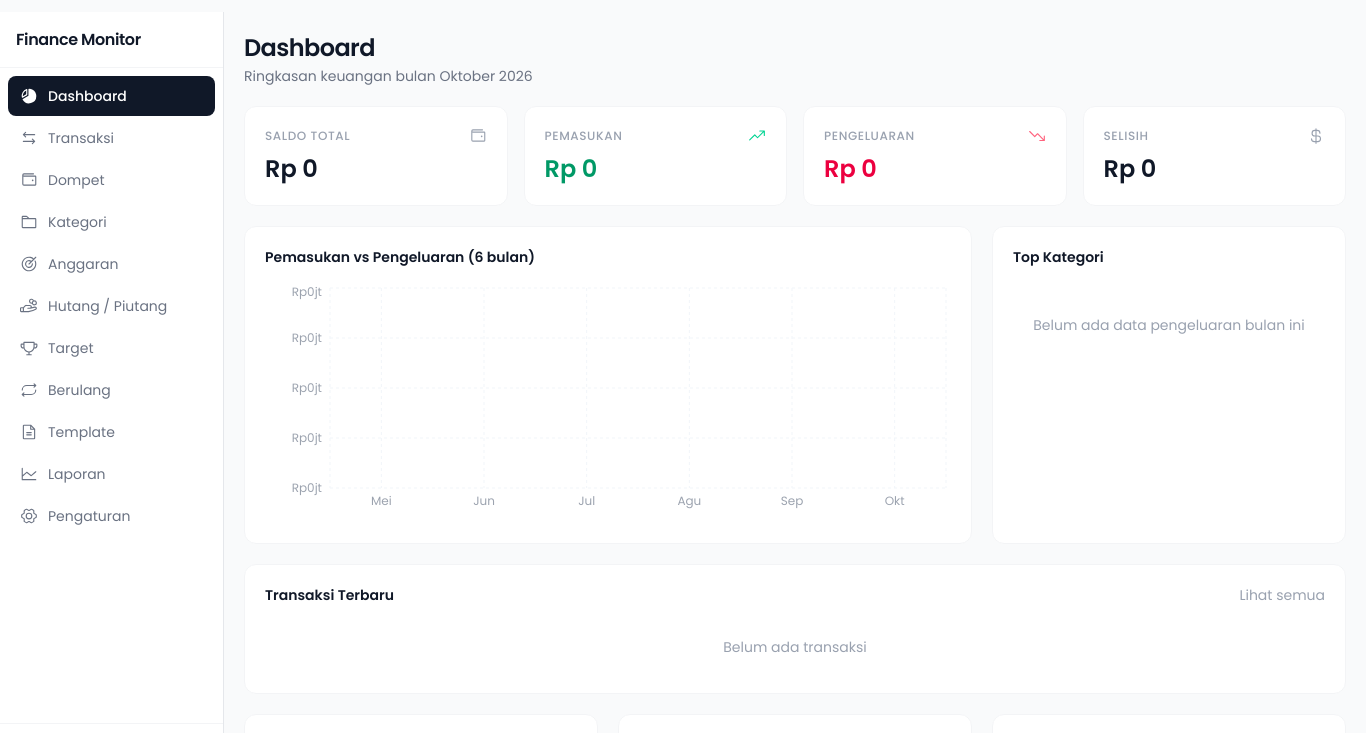
it: Navigation Integration › navigasi ke halaman Pengaturan saat link diklik
Click the link "Pengaturan".
click(75, 516)  # box [20,506,130,526]
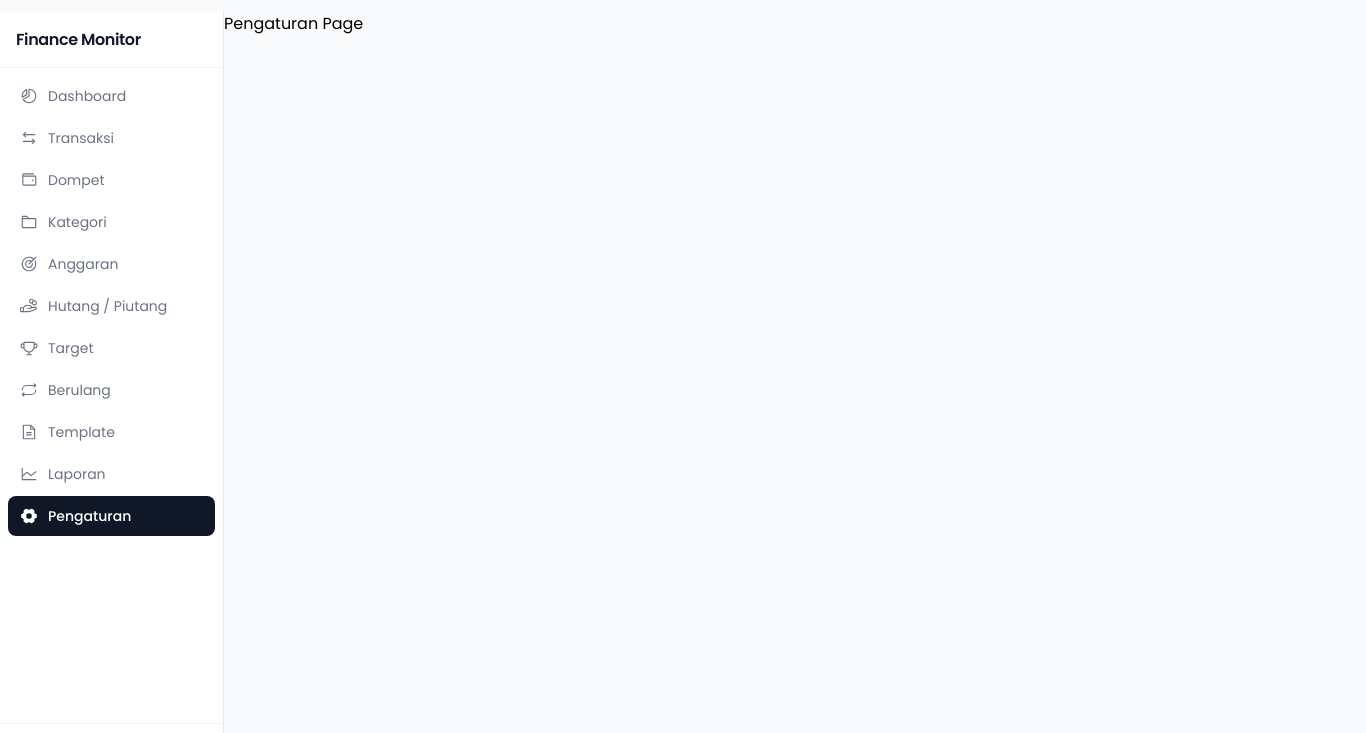
Result: the text "Pengaturan Page" is shown at [224,12,363,35]
